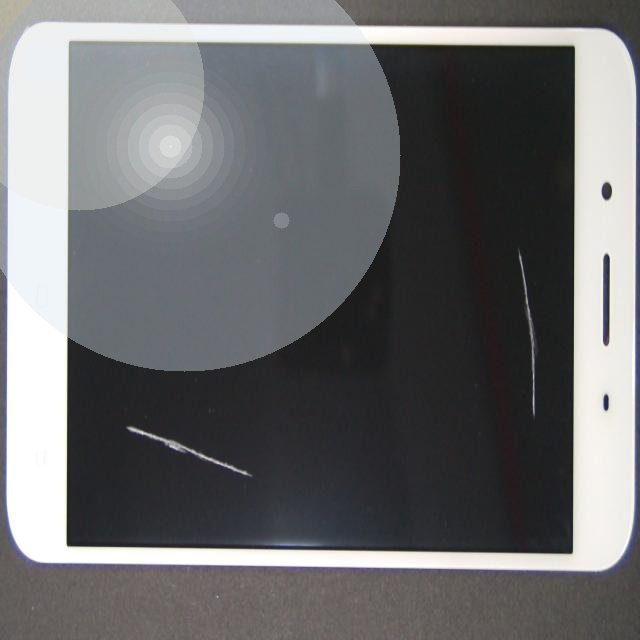scratch: (294, 314, 640, 531), (211, 259, 327, 640)
